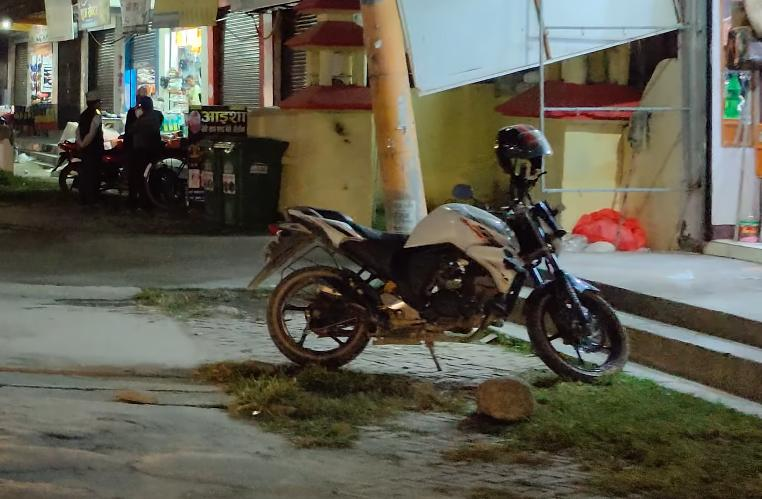bike: (245, 161, 634, 386)
